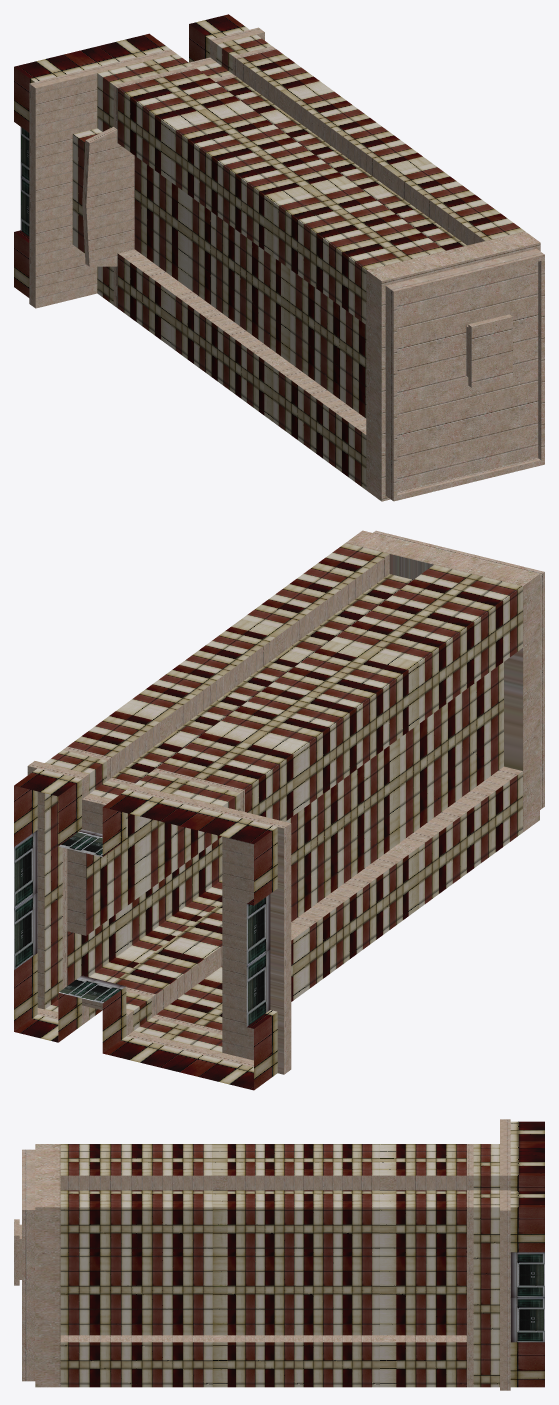
Rendered from skyscraper_windowF_03.obj.
3 renders of one model, top to bottom at view 1: azimuth 30°, elevation 25°; view 2: azimuth 150°, elevation 25°; view 3: azimuth 270°, elevation 25°, orthographic. The views are drawn at different scales.
Visible parts, largest first — view 1: Zone_4x4_SeaWall_C_15; view 2: Zone_4x4_SeaWall_C_15; view 3: Zone_4x4_SeaWall_C_15.
Boxes of the visible parts, x1=… form: Zone_4x4_SeaWall_C_15: x1=14, y1=14, x2=544, y2=501; Zone_4x4_SeaWall_C_15: x1=14, y1=530, x2=544, y2=1090; Zone_4x4_SeaWall_C_15: x1=14, y1=1119, x2=544, y2=1390.
Bounding box in the file's own units: 44.55 × 40.9 × 109.
Materials: 3 (3 with a texture image).
